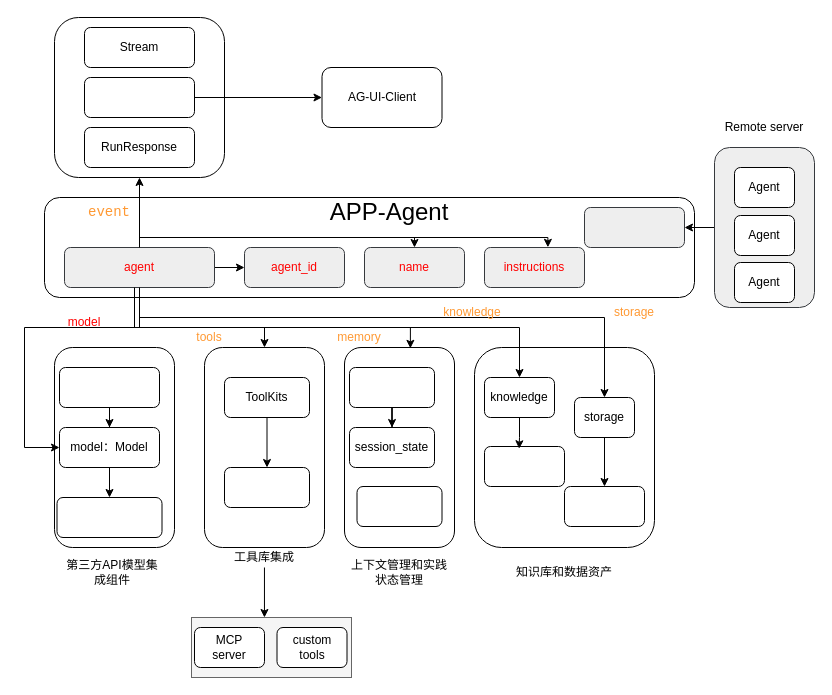
Image size: 832x695. Some labels were removed from this diagram. The centre of each missing label's shape, as x and y in pixels:
Agent Knowledage: the point at 524,466
AgentMemory: the point at 391,387
AgentSession: the point at 604,506
context: the point at 399,506
ModelResponse: the point at 109,517
ModelsProvider: the point at 109,387
RunResponseEvent: the point at 139,97
teams: the point at 634,227
ToolExecution: the point at 267,487
